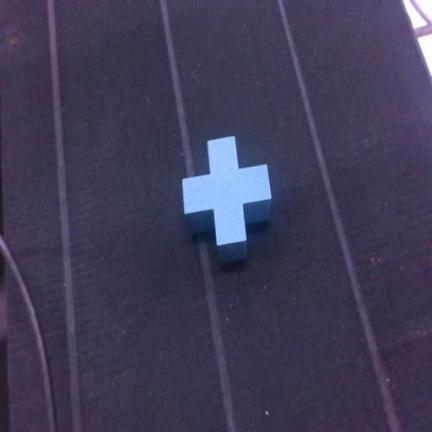cross: (183, 137, 271, 261)
